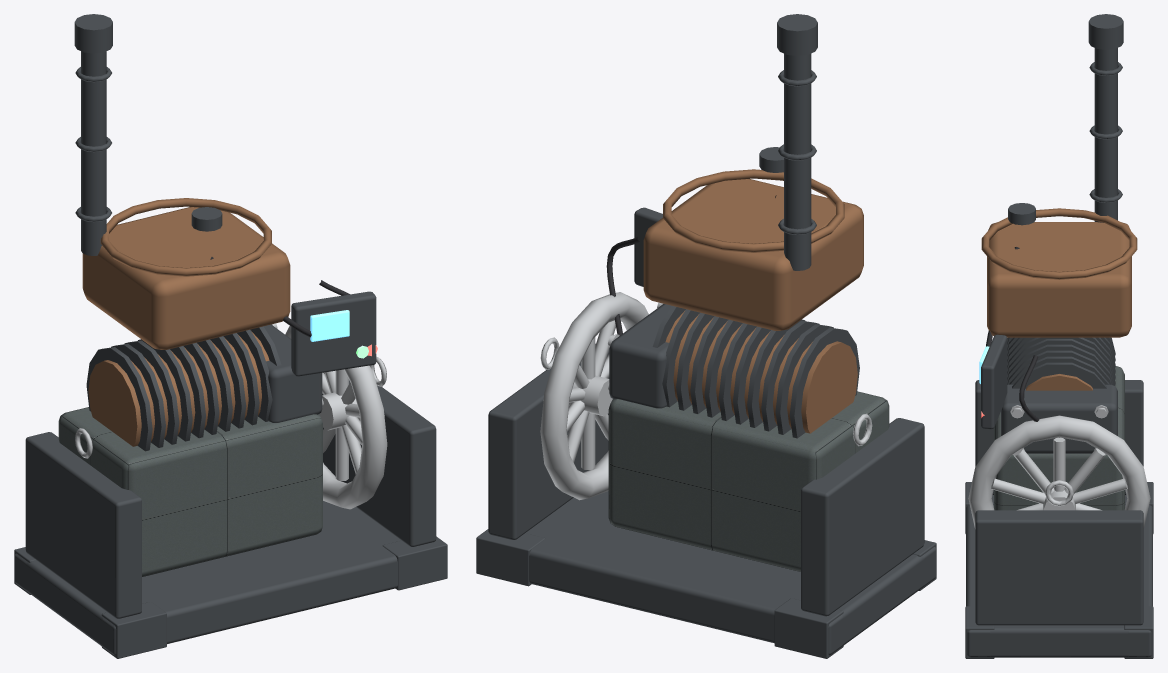
Rendered from generator-unit.glb.
3 views of the same model, side by side, from view 1: azimuth 30°, elevation 25°; view 2: azimuth 150°, elevation 25°; view 3: azimuth 270°, elevation 25° (orthographic). The views are drawn at different scales.
Visible parts, largest first — view 1: generator-unit, flywheel; view 2: generator-unit, flywheel; view 3: generator-unit, flywheel.
Part boxes in pixels (<box>): generator-unit: <box>14,14,447,658</box>; flywheel: <box>285,326,387,509</box>; generator-unit: <box>476,14,936,658</box>; flywheel: <box>540,292,648,500</box>; generator-unit: <box>965,14,1153,658</box>; flywheel: <box>968,415,1150,528</box>.
Bounding box in the file's own units: 1.5 × 2.43 × 0.8053.
Materials: 8 (1 with a texture image).
